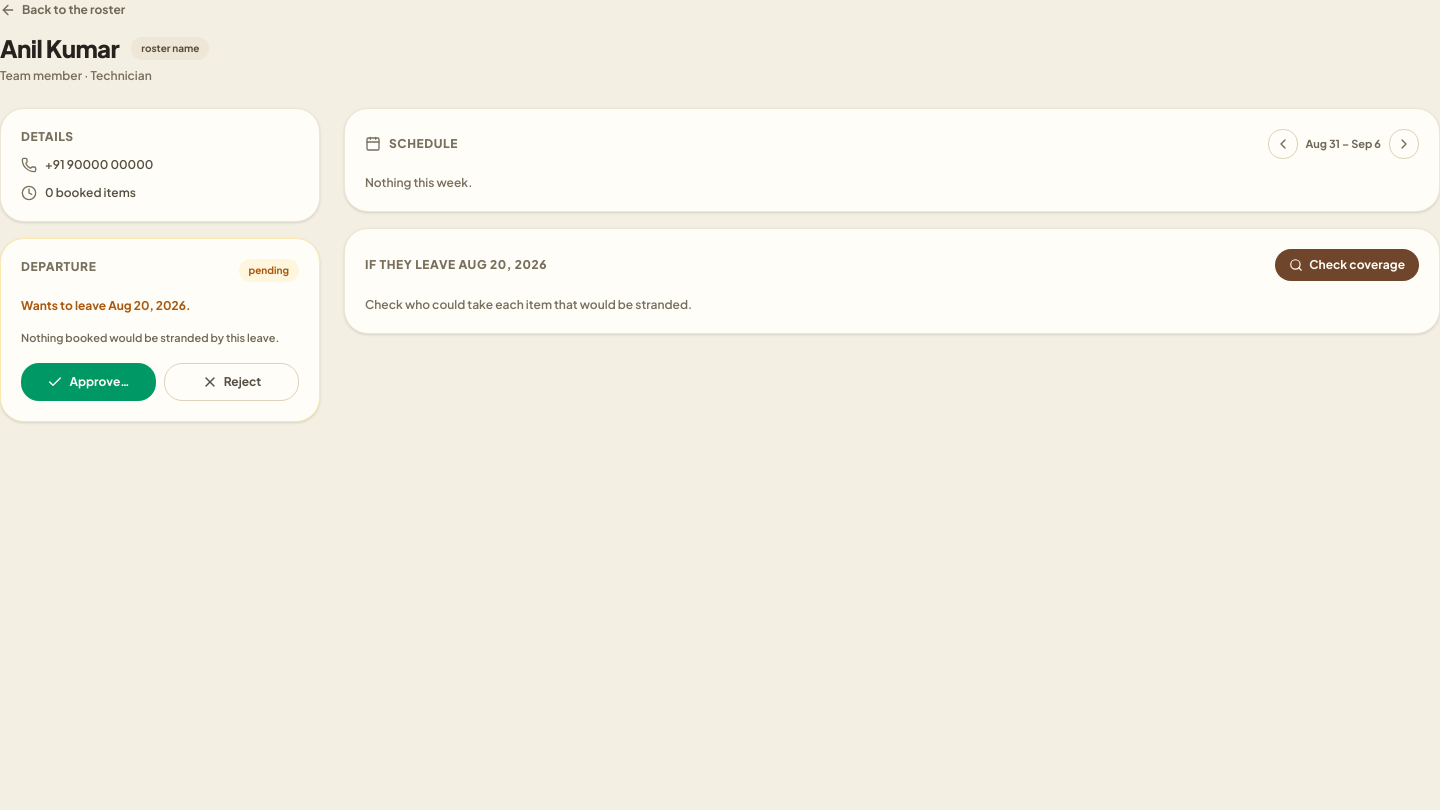
Test: approve-leave sheet portal contract › keeps the escape close behavior
Click the button "Approve…".
click(88, 382)  # box [21,362,156,400]
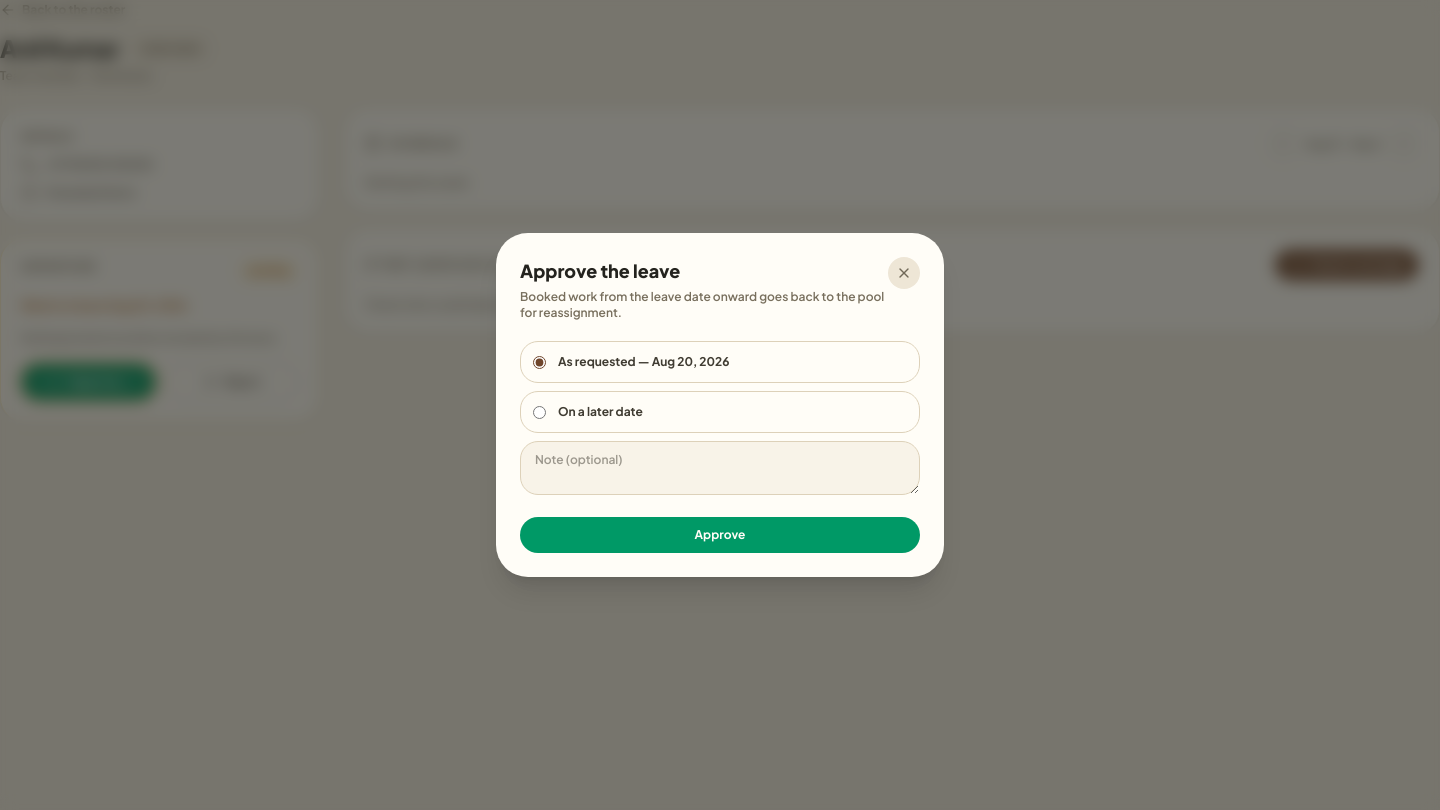
Press Escape
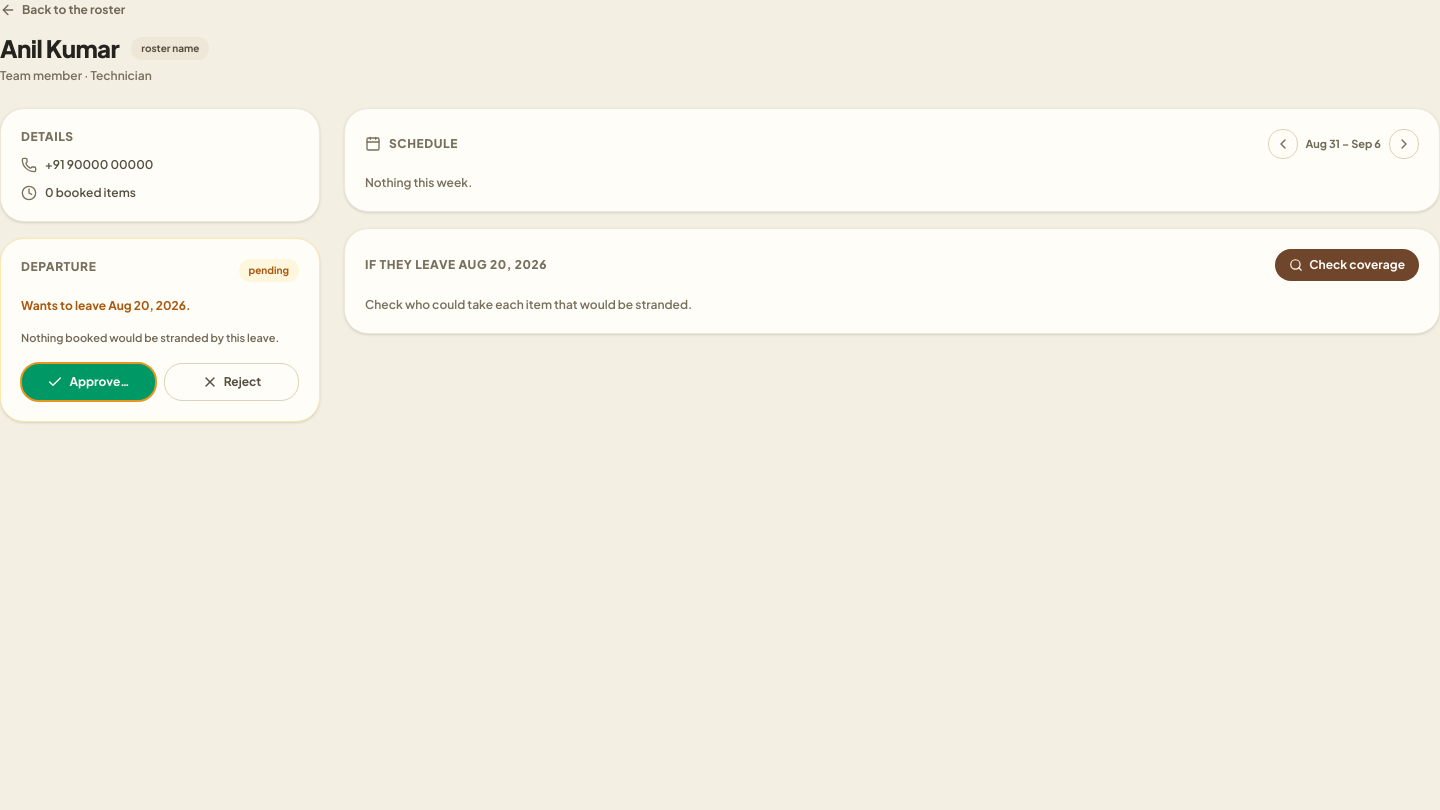
Expected: the dialog is gone
